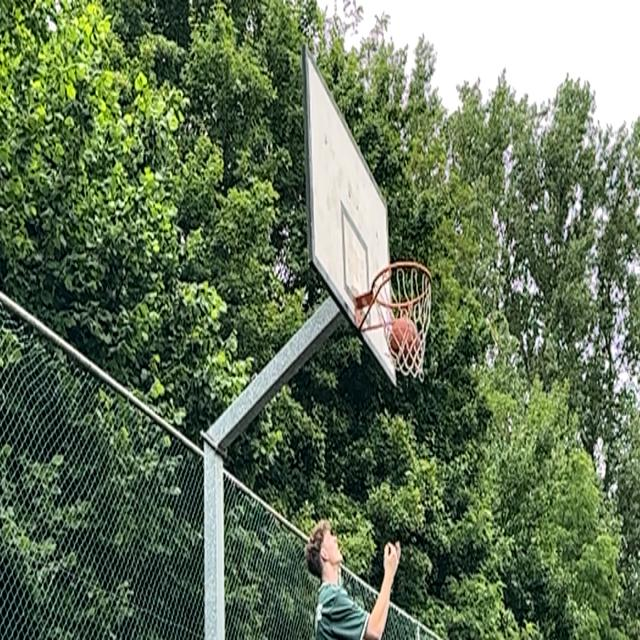Goal: (387, 317, 421, 371)
